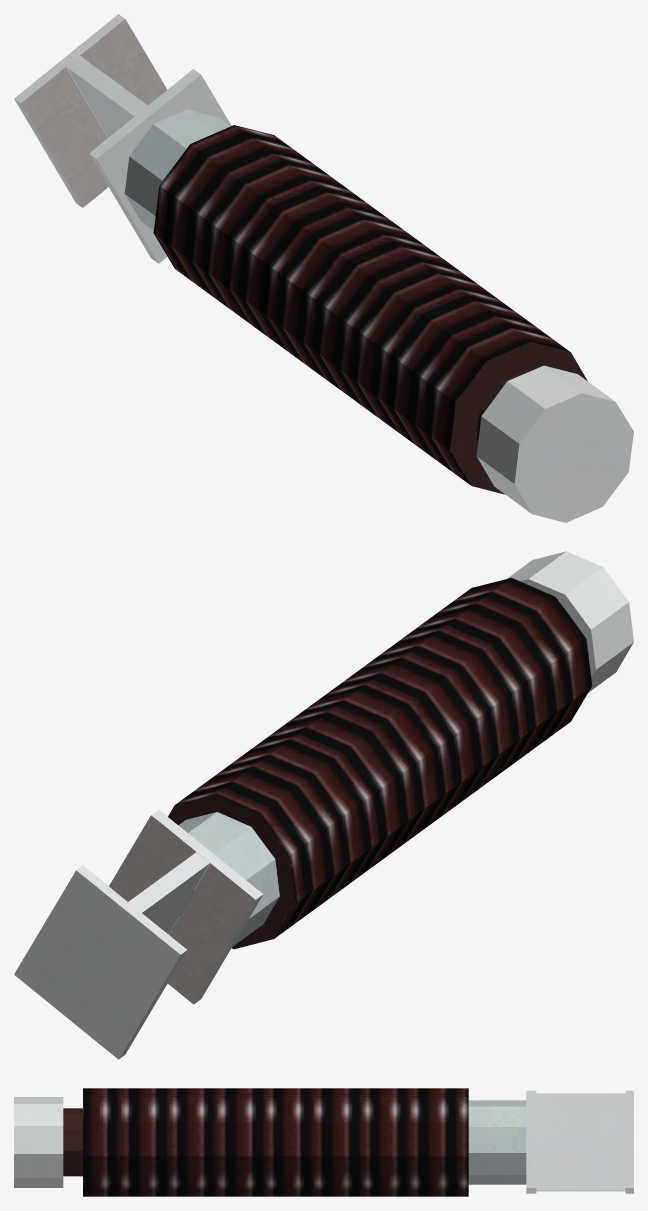
The model's file is jyz005-geode.glb.
3 renders of one model, top to bottom at view 1: azimuth 30°, elevation 25°; view 2: azimuth 150°, elevation 25°; view 3: azimuth 270°, elevation 25°, orthographic. The views are drawn at different scales.
Visible parts, largest first — view 1: Node; view 2: Node; view 3: Node.
Boxes of the visible parts, x1,y1,x2,y2 form: Node: [14, 14, 633, 522]; Node: [14, 551, 633, 1059]; Node: [14, 1088, 633, 1196].
Size of the model in its own units: 0.1639 by 0.1683 by 0.8119.
Materials: 5 (5 with a texture image).
